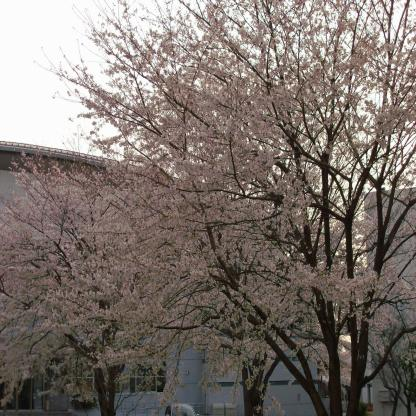Someiyoshino: (53, 2, 416, 348), (0, 161, 218, 406)
